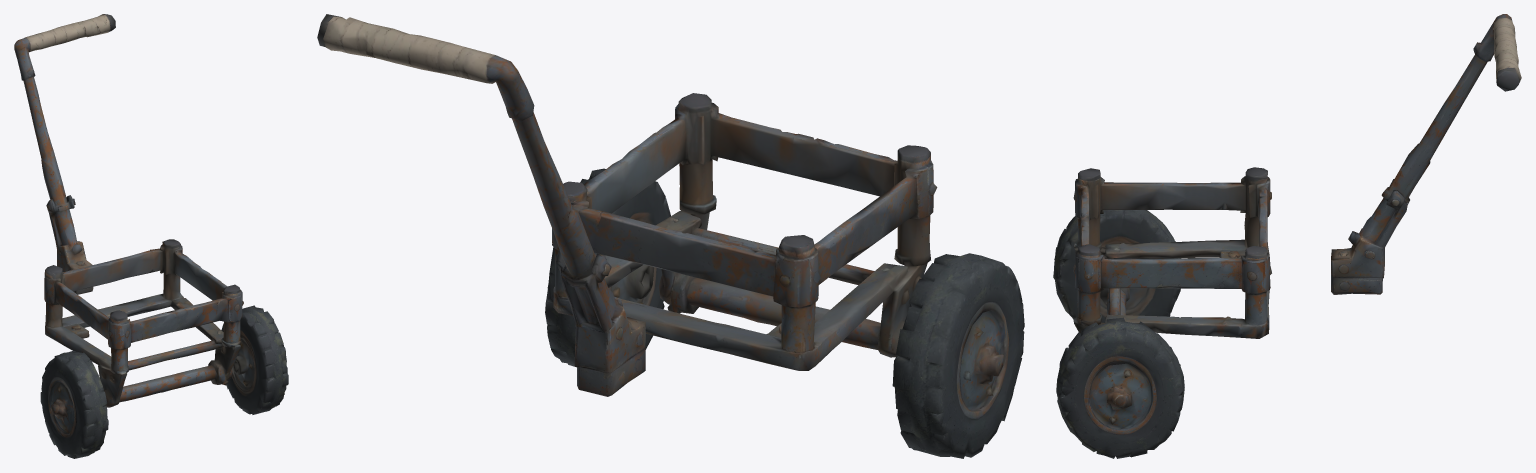
File: cart.glb
3 renders of one model, left to right at view 1: azimuth 30°, elevation 25°; view 2: azimuth 150°, elevation 25°; view 3: azimuth 270°, elevation 25°, orthographic. The views are drawn at different scales.
Parts seen in each view (by area): view 1: tripo_node_7102a12c-790a-4439-b559-0ce93350ad86; view 2: tripo_node_7102a12c-790a-4439-b559-0ce93350ad86; view 3: tripo_node_7102a12c-790a-4439-b559-0ce93350ad86.
Part boxes in pixels (x1,y1,x2,y2): tripo_node_7102a12c-790a-4439-b559-0ce93350ad86: (14, 14, 288, 458); tripo_node_7102a12c-790a-4439-b559-0ce93350ad86: (317, 14, 1024, 458); tripo_node_7102a12c-790a-4439-b559-0ce93350ad86: (1053, 14, 1521, 458).
Bounding box in the file's own units: 0.8103 × 1 × 1.1.
Materials: 1 (1 with a texture image).
